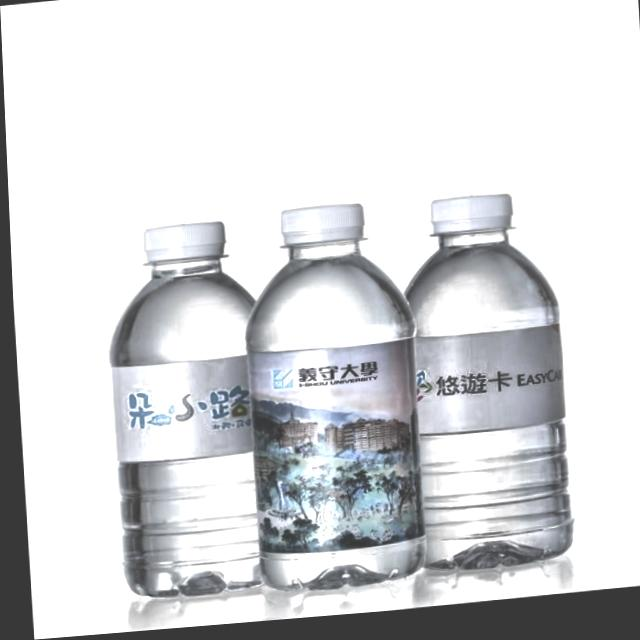Bottles: (52, 209, 295, 624), (202, 178, 427, 609), (383, 189, 581, 594)
